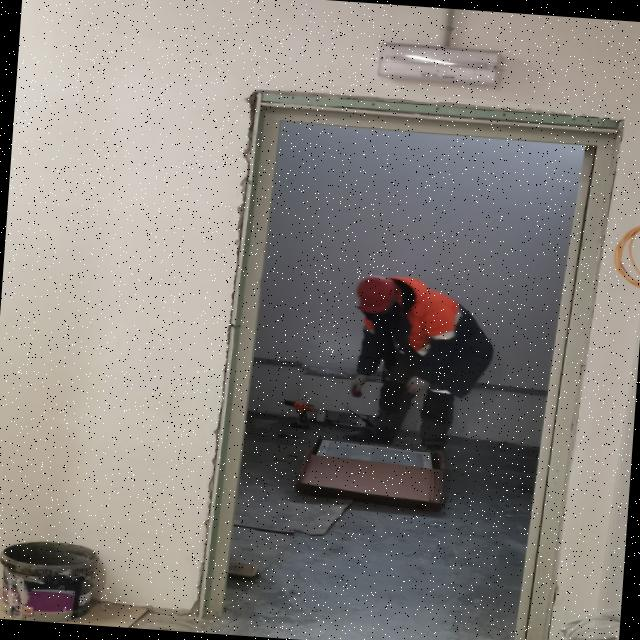Helmet: (354, 274, 402, 321)
